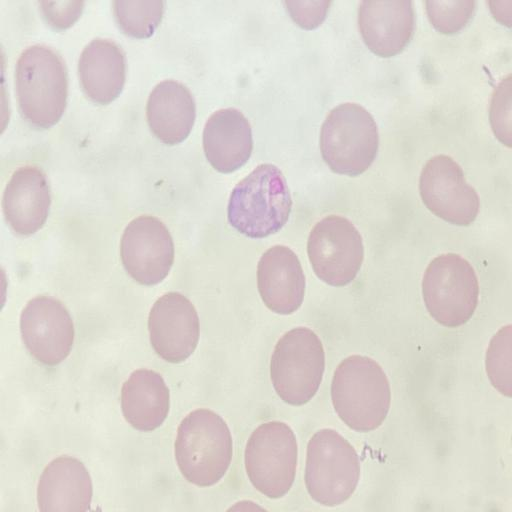Infected: (227, 163, 292, 236)
Uninfected: (173, 407, 234, 488), (329, 354, 391, 432), (13, 44, 68, 127), (318, 102, 380, 175), (269, 328, 325, 407), (420, 254, 479, 328), (303, 430, 359, 507), (418, 155, 480, 224), (243, 422, 299, 498), (306, 216, 365, 286), (118, 215, 175, 285), (18, 296, 74, 366), (146, 292, 201, 363), (145, 80, 199, 146), (255, 247, 306, 316), (1, 166, 51, 236), (202, 108, 255, 173), (119, 368, 171, 432), (358, 0, 414, 57), (78, 38, 127, 103), (36, 456, 93, 511), (115, 2, 163, 38)
